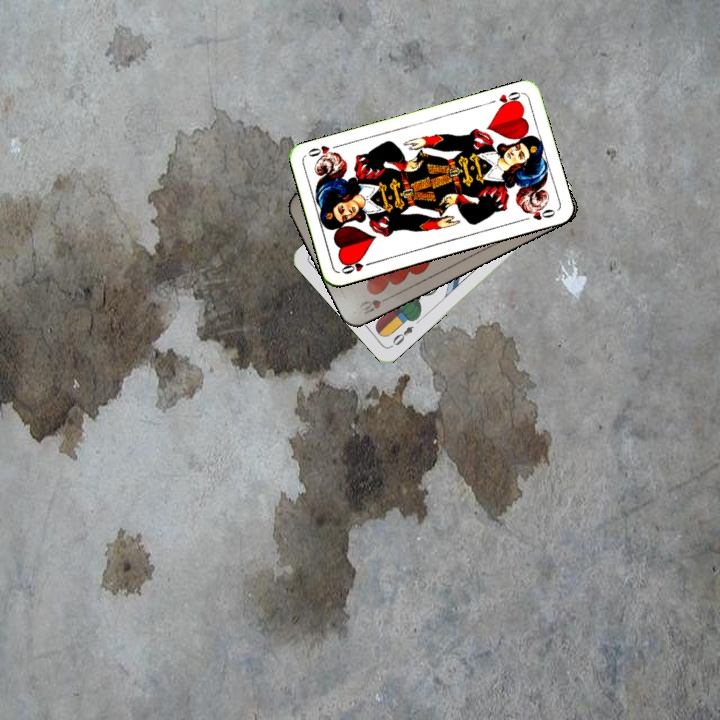EO: (388, 322, 416, 348)
H10: (355, 292, 394, 317)
HO: (337, 255, 376, 277), (495, 88, 524, 111)
